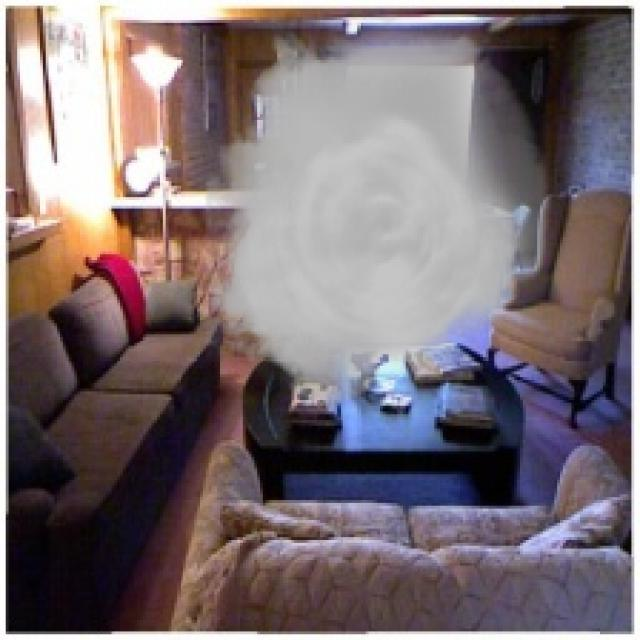smoke: (206, 14, 551, 420)
